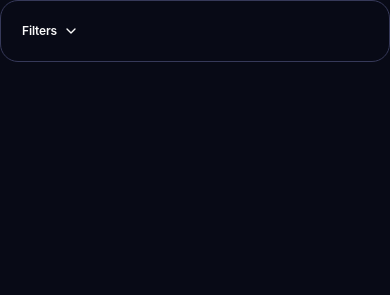
AdvancedFilters › renders all filter sections
Note: Expand the filters panel first (collapsed by default)
What coordinates should you click on to do the following:
click the button "Filters"
I would click on:
 (50, 31)
Its box is [9,9,92,53].
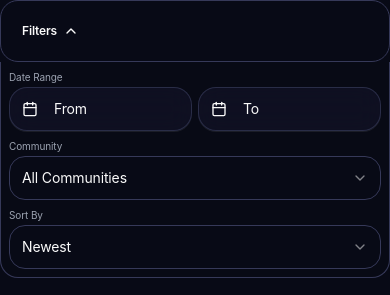
Now the text "Date Range" is shown, box [9,71,62,83]
Now the text "Sort By" is shown, box [9,209,43,221]
